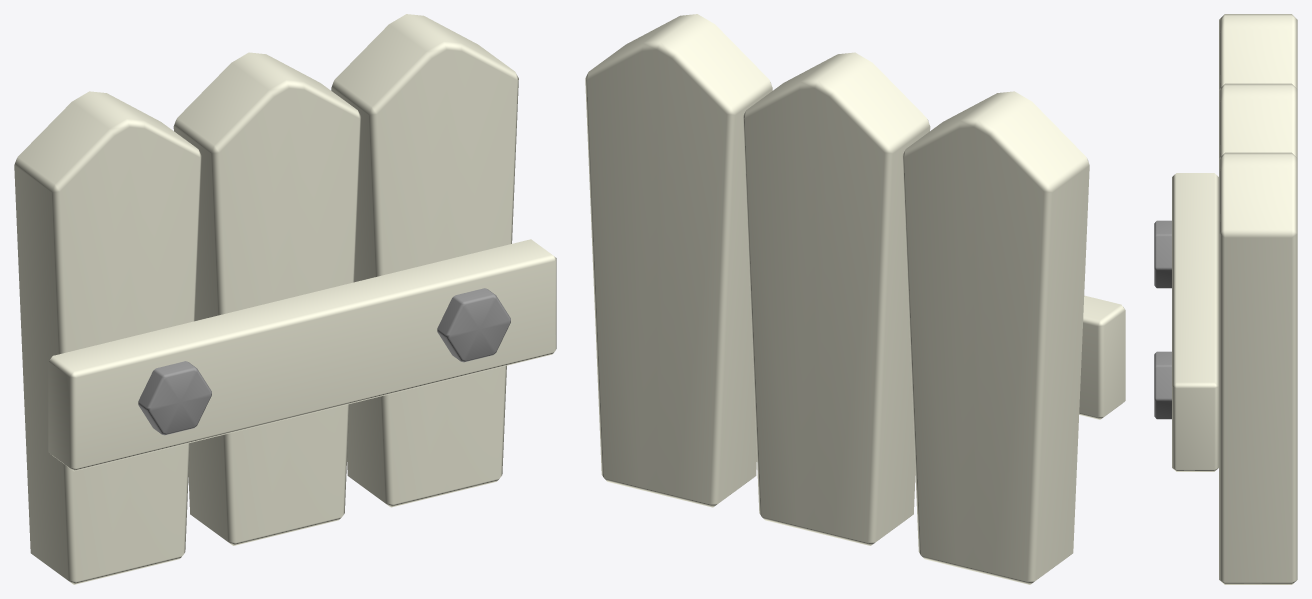
The model's file is Town_1_Fence_1.glb.
The picture shows the model from 3 angles, left to right: view 1: azimuth 30°, elevation 25°; view 2: azimuth 150°, elevation 25°; view 3: azimuth 270°, elevation 25°; orthographic projection. The views are drawn at different scales.
Visible parts, largest first — view 1: Town_1_Fence_1; view 2: Town_1_Fence_1; view 3: Town_1_Fence_1.
Boxes of the visible parts, bbox=[...] form: Town_1_Fence_1: bbox=[14, 14, 556, 584]; Town_1_Fence_1: bbox=[585, 14, 1125, 584]; Town_1_Fence_1: bbox=[1154, 14, 1297, 584].
Size of the model in its own units: 1 by 0.8893 by 0.2842.
Materials: 1 (1 with a texture image).
